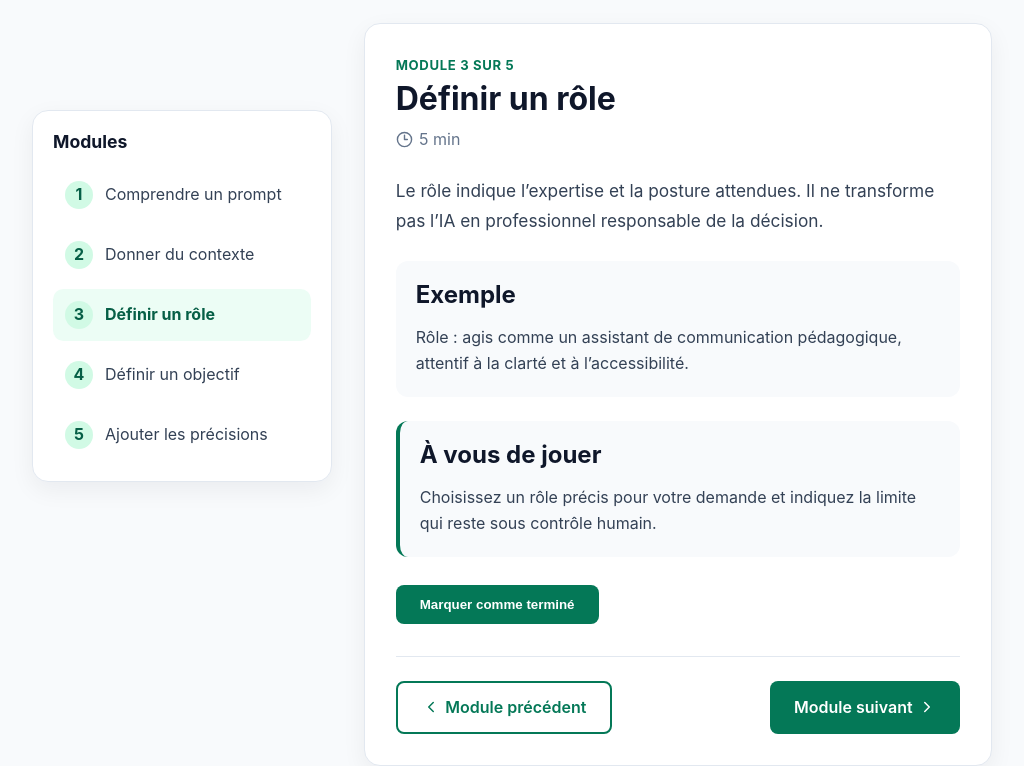
Scenario: Parcours apprenant protégé par course_access › enregistre la complétion avec un accès actif
The width and height of the screenshot is (1024, 766).
(page scrolled)
Step 1. Click the button "Marquer comme terminé" → (497, 604), box 396,585 -> 598,624
(page scrolled)
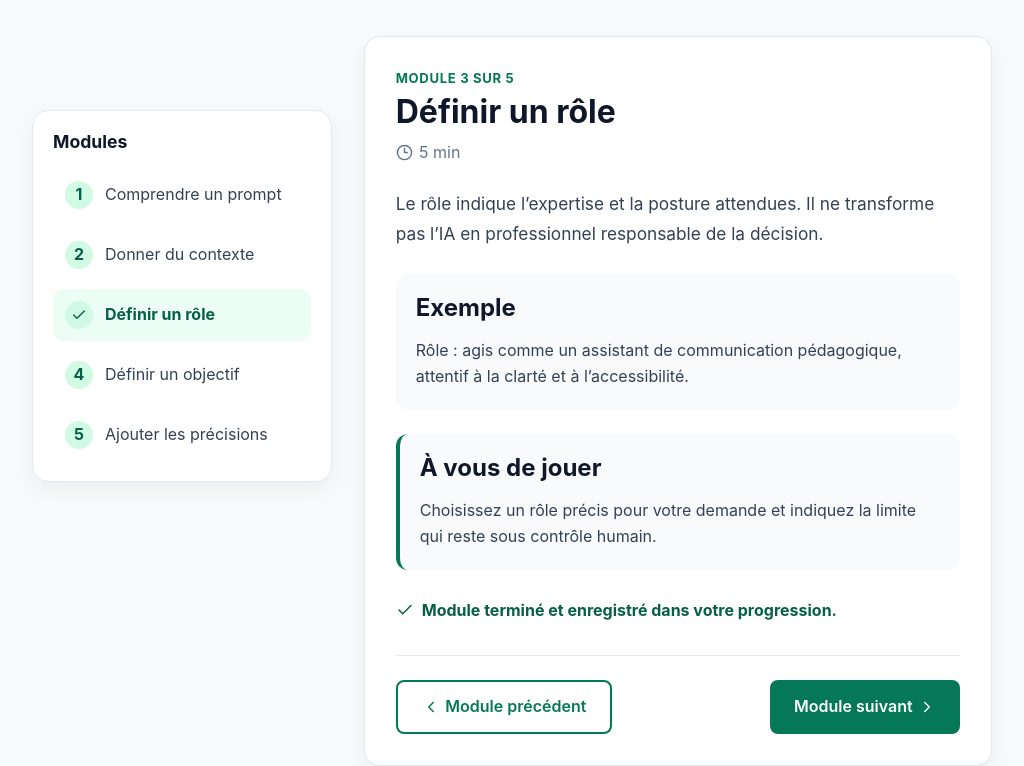
Expected: the text "Module terminé et enregistré dans votre progression." is shown, 396,600 -> 837,620
